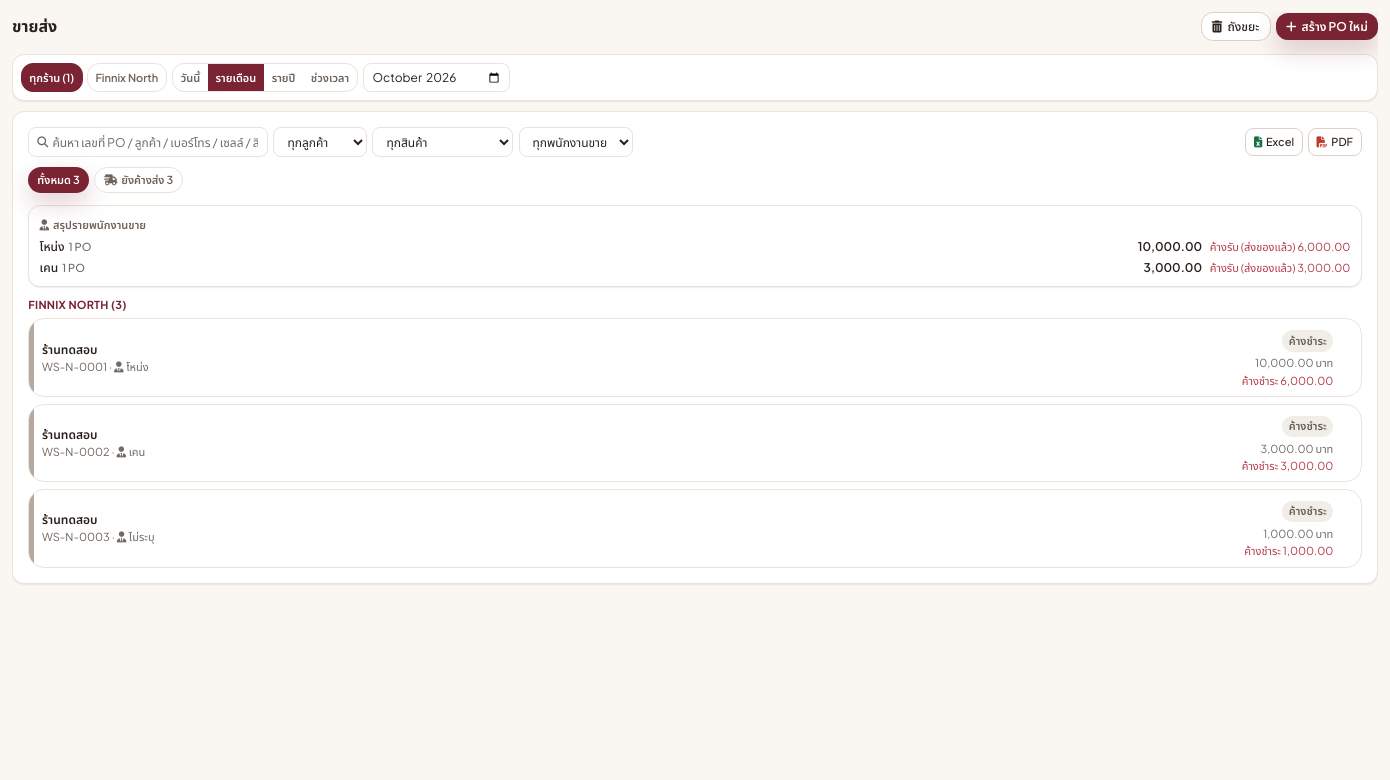
WholesaleList — พนักงานขาย › กรองรายการตามพนักงานขาย และนับ "ไม่ระบุ" แยก
Select "เคน" in the dropdown named "กรองตามพนักงานขาย". click: (576, 142)
box: [518,128,633,157]
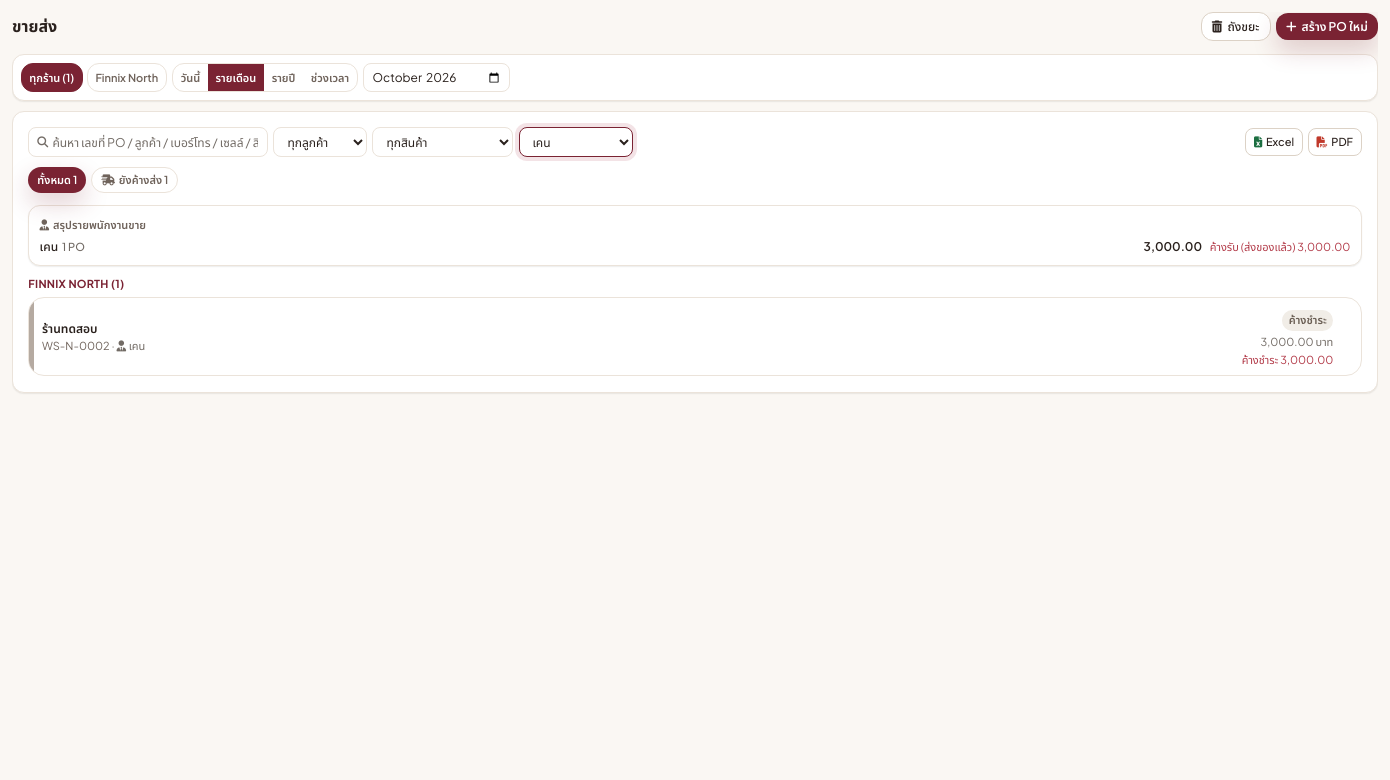
Expected: the text "WS-N-0002 · เคน" is shown, [42,338,145,354]
Expected: the text "WS-N-0001" is not shown
Note: ไม่ระบุ is a choice of its own — "which of mine have no seller".
Select "ไม่ระบุ" in the dropdown named "กรองตามพนักงานขาย". click: (576, 142)
box: [518,128,633,157]
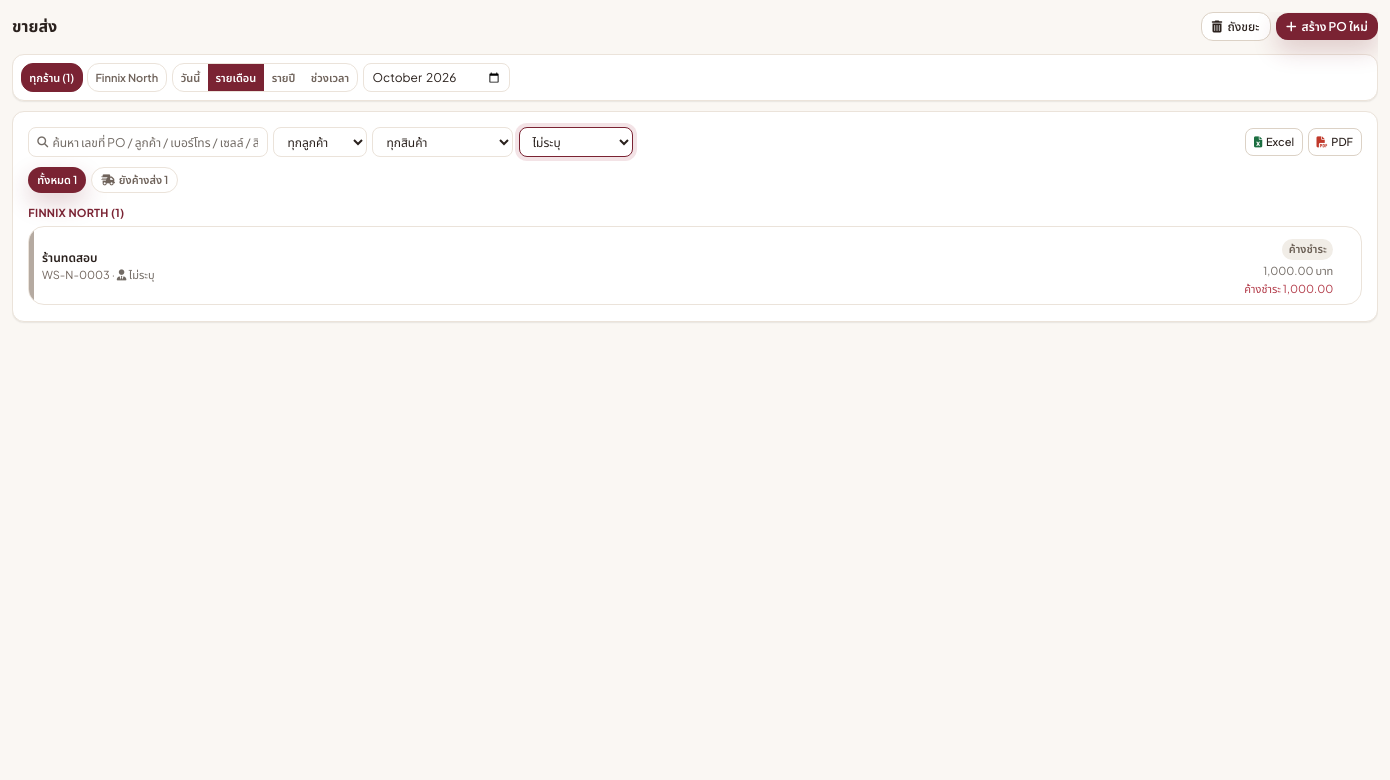
Expected: the text "WS-N-0003 · ไม่ระบุ" is shown, [42,267,155,283]
Expected: the text "WS-N-0002" is not shown
